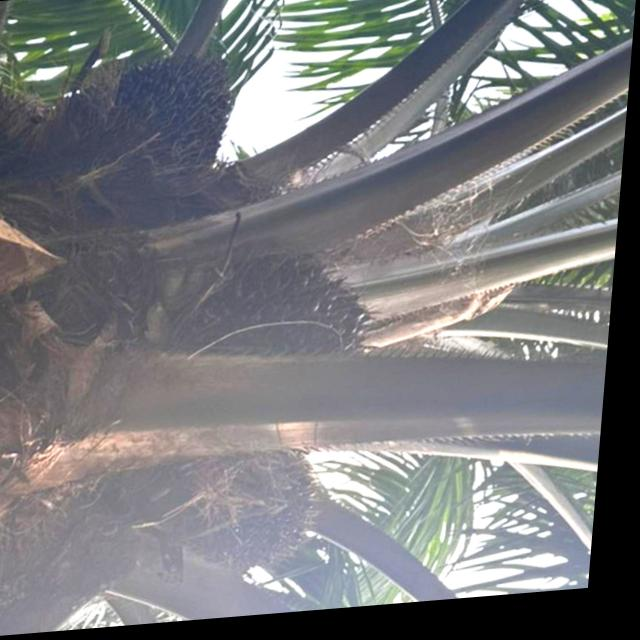ripe: (168, 235, 406, 395)
